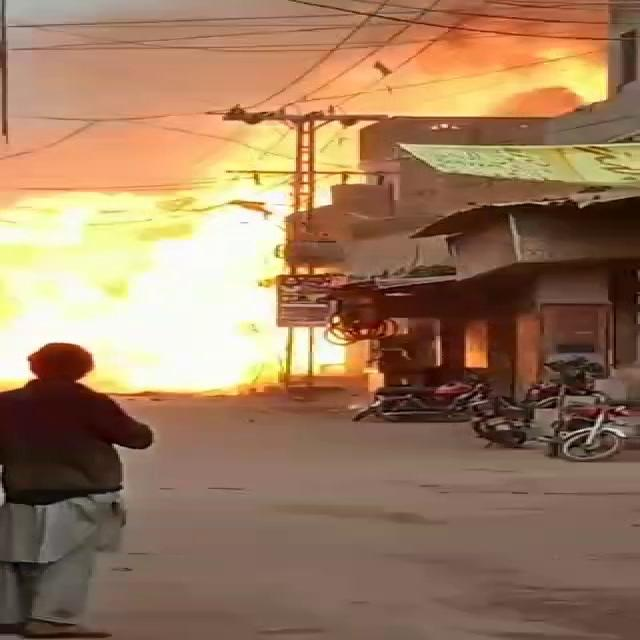Fire: (0, 179, 342, 396), (272, 49, 612, 117), (0, 193, 176, 317), (200, 120, 342, 202), (316, 123, 370, 191)
